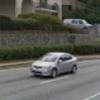cars: (31, 52, 78, 77)
